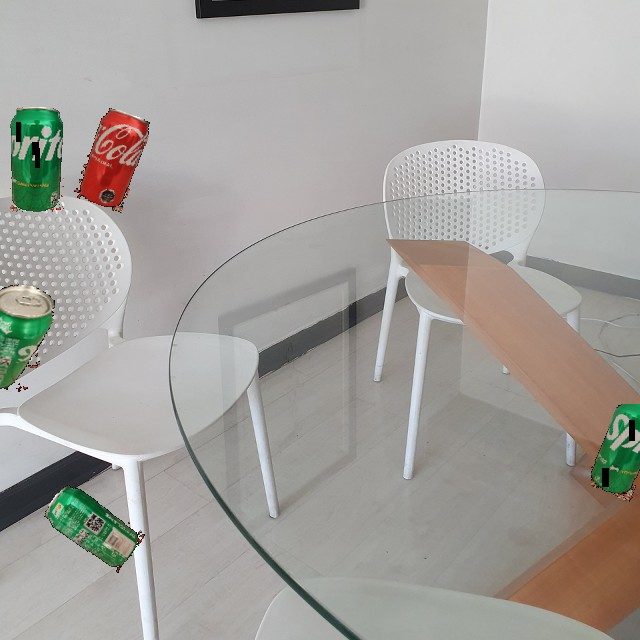coca cola: (73, 106, 153, 213)
sprite: (40, 479, 146, 573), (0, 282, 61, 394), (9, 107, 64, 212), (591, 404, 640, 502)
